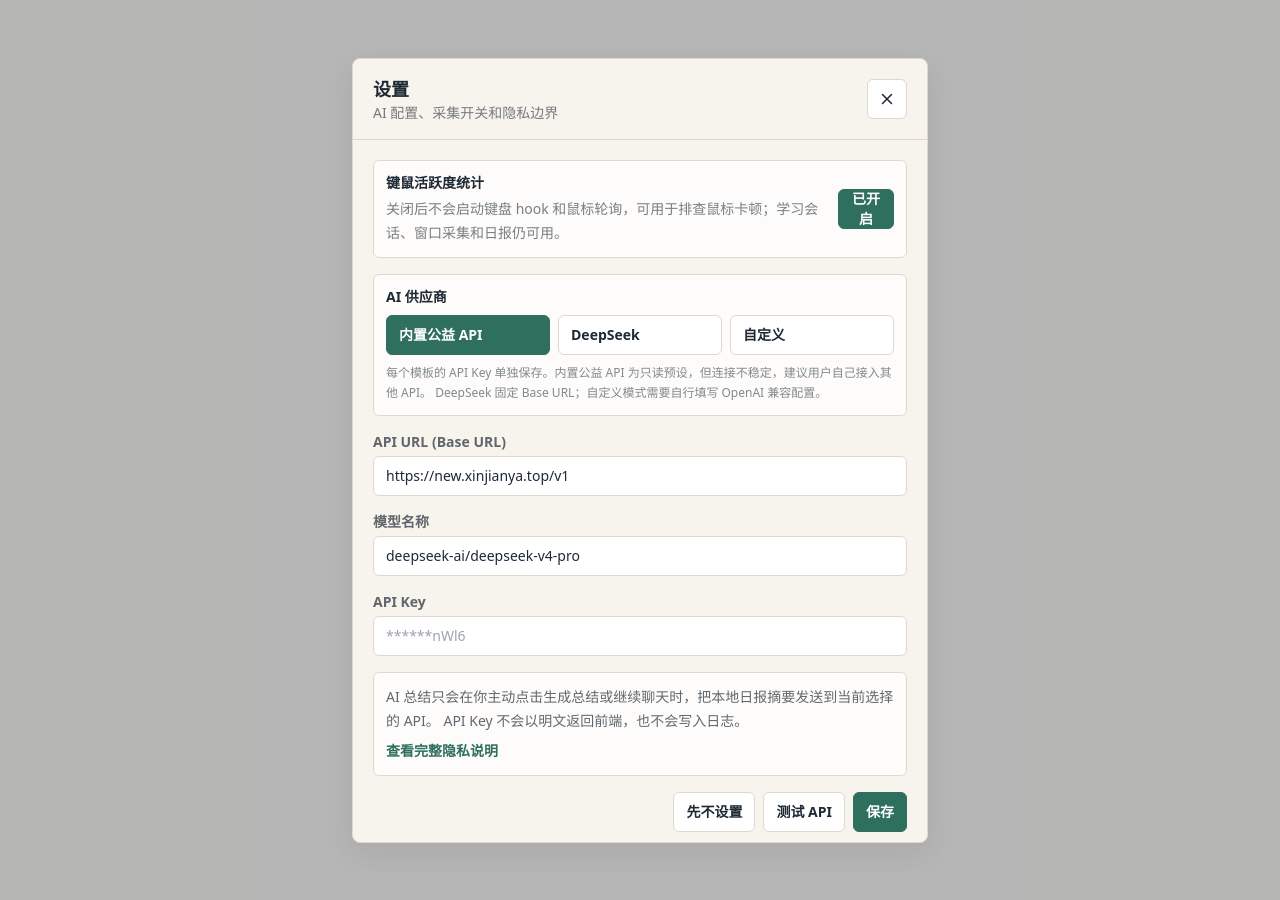
Test: SettingsModal › tests the current form values without saving them
This screenshot has width=1280, height=900.
Click the button "测试 API".
click(804, 812)  # box [764,792,845,832]
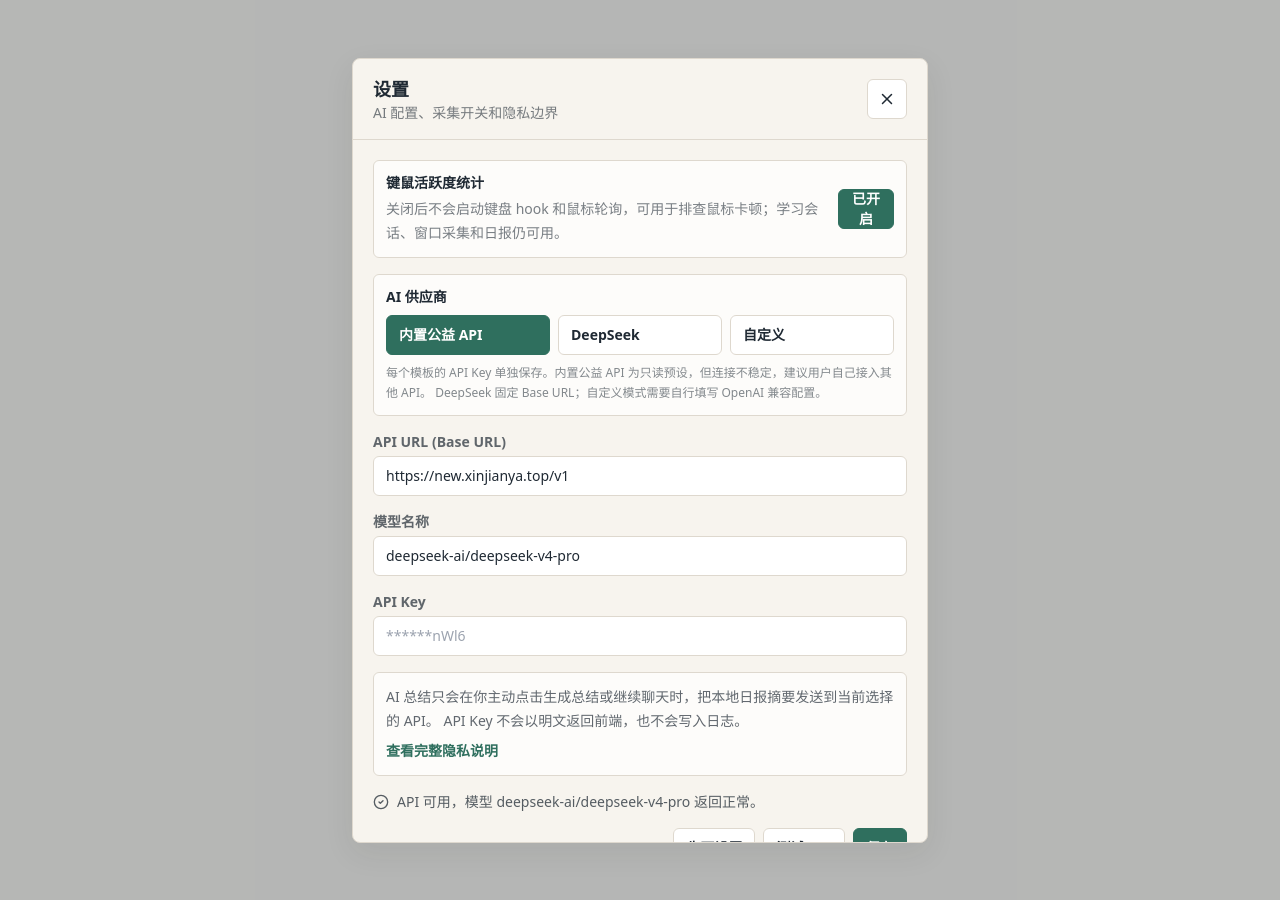
Check: the text "API 可用，模型 deepseek-ai/deepseek-v4-pro 返回正常。" is shown, box [373,792,764,810]
